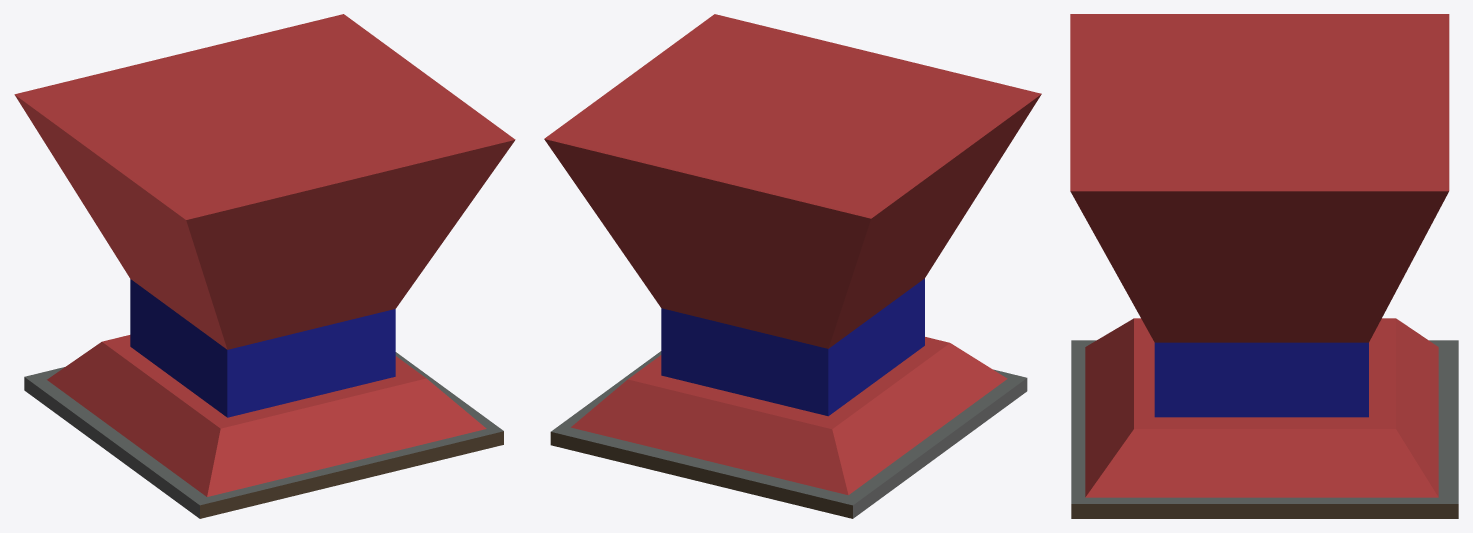
The model's file is Platform_01.fbx.
The picture shows the model from 3 angles, left to right: view 1: azimuth 30°, elevation 25°; view 2: azimuth 150°, elevation 25°; view 3: azimuth 270°, elevation 25°; orthographic projection. The views are drawn at different scales.
Parts seen in each view (by area): view 1: pCube5; view 2: pCube5; view 3: pCube5.
Part boxes in pixels (x1,y1,x2,y2): pCube5: (14,14,515,518); pCube5: (544,14,1041,518); pCube5: (1070,14,1458,518).
Size of the model in its own units: 5.02 by 4.41 by 4.65.
